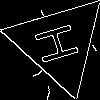H: (33, 18, 89, 67)
